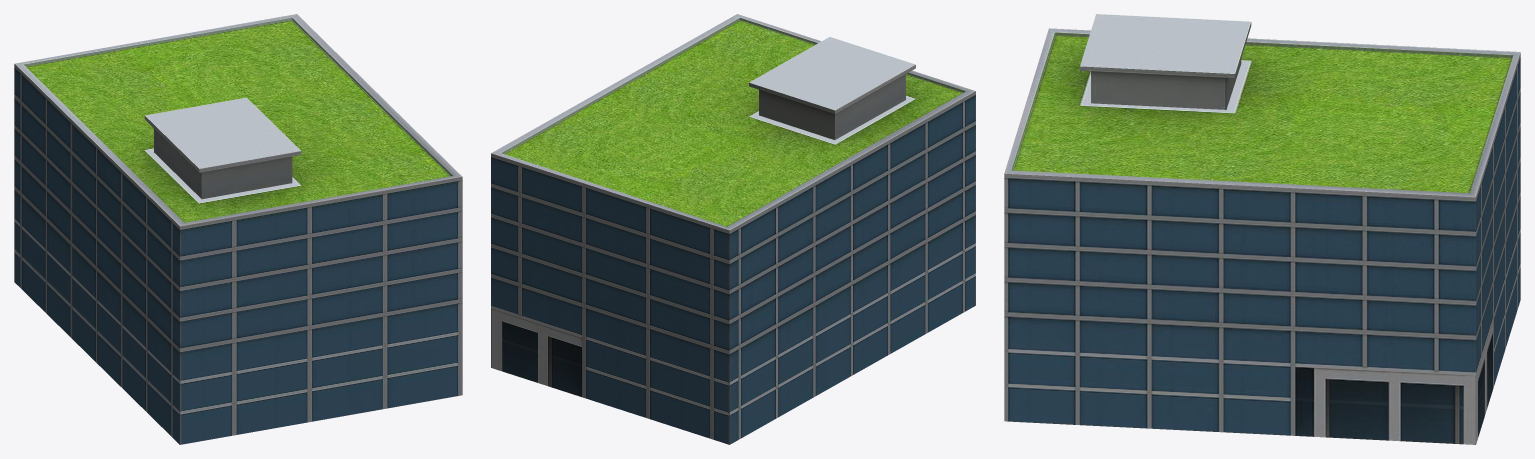
3 views of the same model, side by side, from view 1: azimuth 30°, elevation 25°; view 2: azimuth 150°, elevation 25°; view 3: azimuth 270°, elevation 25° (orthographic). The views are drawn at different scales.
Parts seen in each view (by area): view 1: MainBuilding; view 2: MainBuilding; view 3: MainBuilding.
Part boxes in pixels (x1,y1,x2,y2): MainBuilding: (14, 14, 462, 444); MainBuilding: (491, 14, 975, 444); MainBuilding: (1004, 14, 1520, 444).
Bounding box in the file's own units: 5.03 × 3.95 × 6.5.
1 material, 1 textured.
